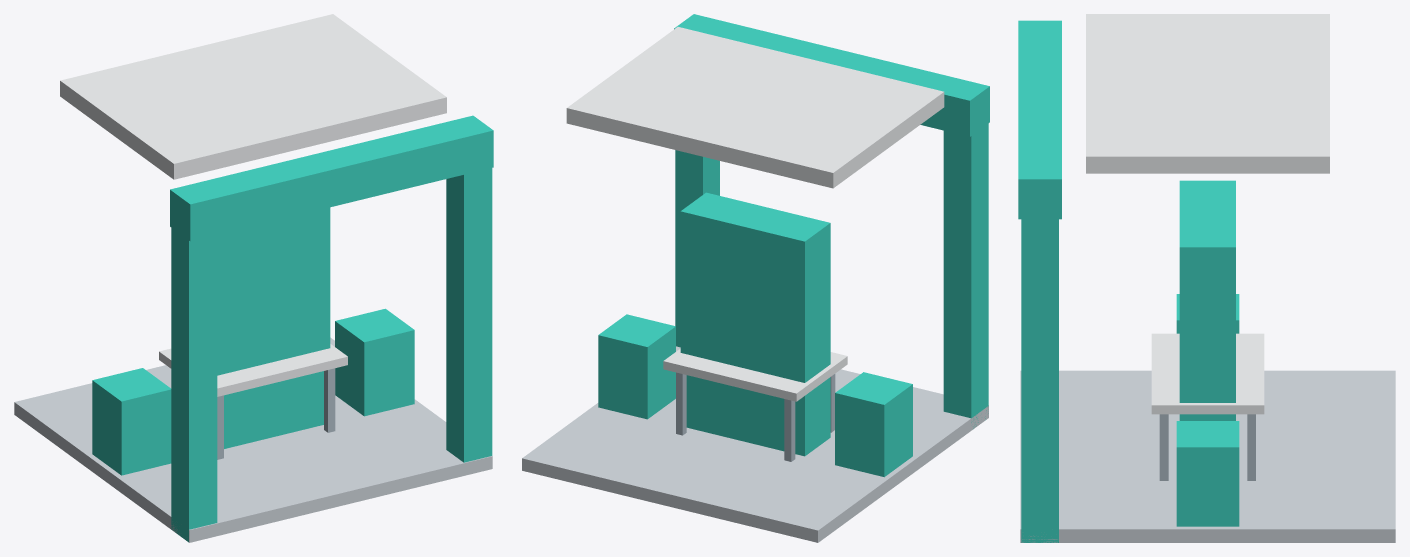
The picture shows the model from 3 angles, left to right: view 1: azimuth 30°, elevation 25°; view 2: azimuth 150°, elevation 25°; view 3: azimuth 270°, elevation 25°; orthographic projection. The views are drawn at different scales.
Visible parts, largest first — view 1: Exhibition Booth Concept; view 2: Exhibition Booth Concept; view 3: Exhibition Booth Concept.
Part boxes in pixels (x1,y1,x2,y2): Exhibition Booth Concept: (14,14,493,542); Exhibition Booth Concept: (522,14,989,542); Exhibition Booth Concept: (1018,14,1395,542).
Bounding box in the file's own units: 3 × 3.34 × 3.01.
